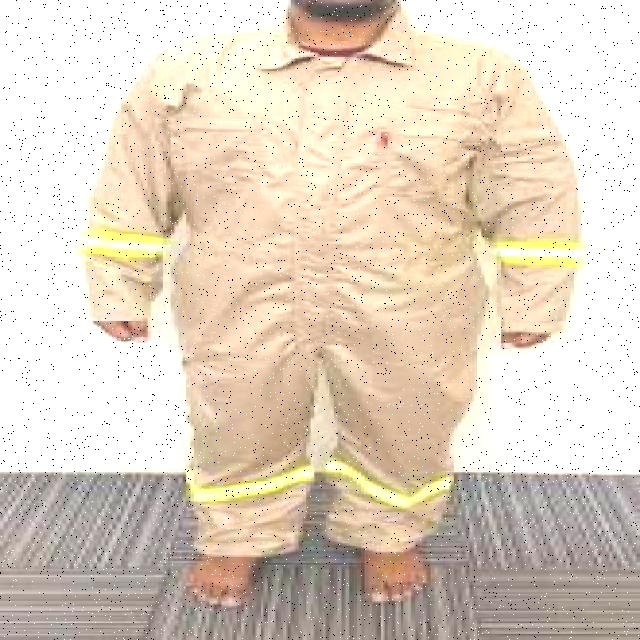Mask: (81, 37, 624, 526)
